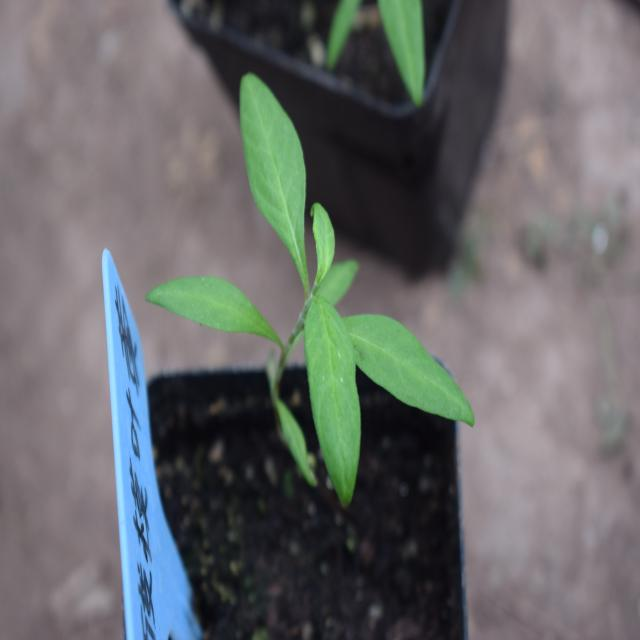white_smart_weed: (151, 3, 468, 510)
